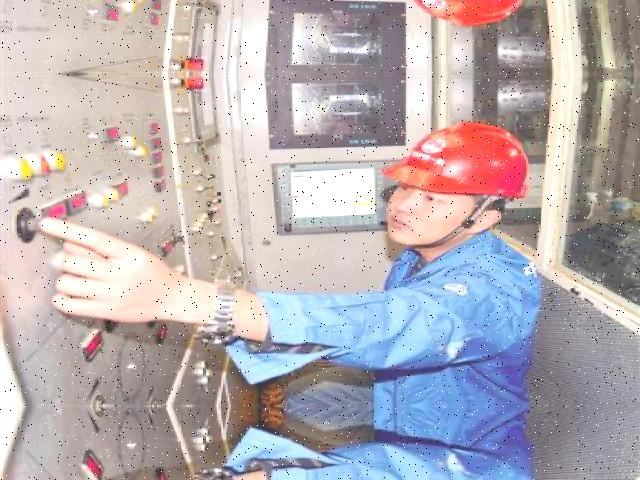Helmet: (373, 116, 534, 203)
